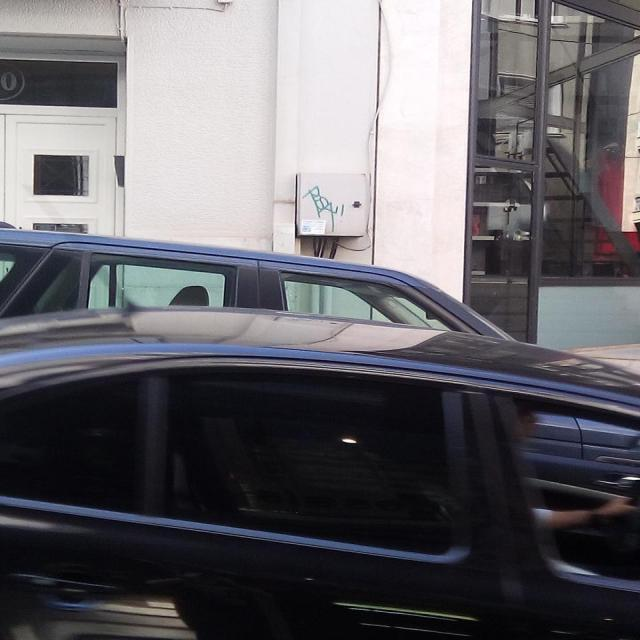nonspitting: (301, 184, 345, 232)
